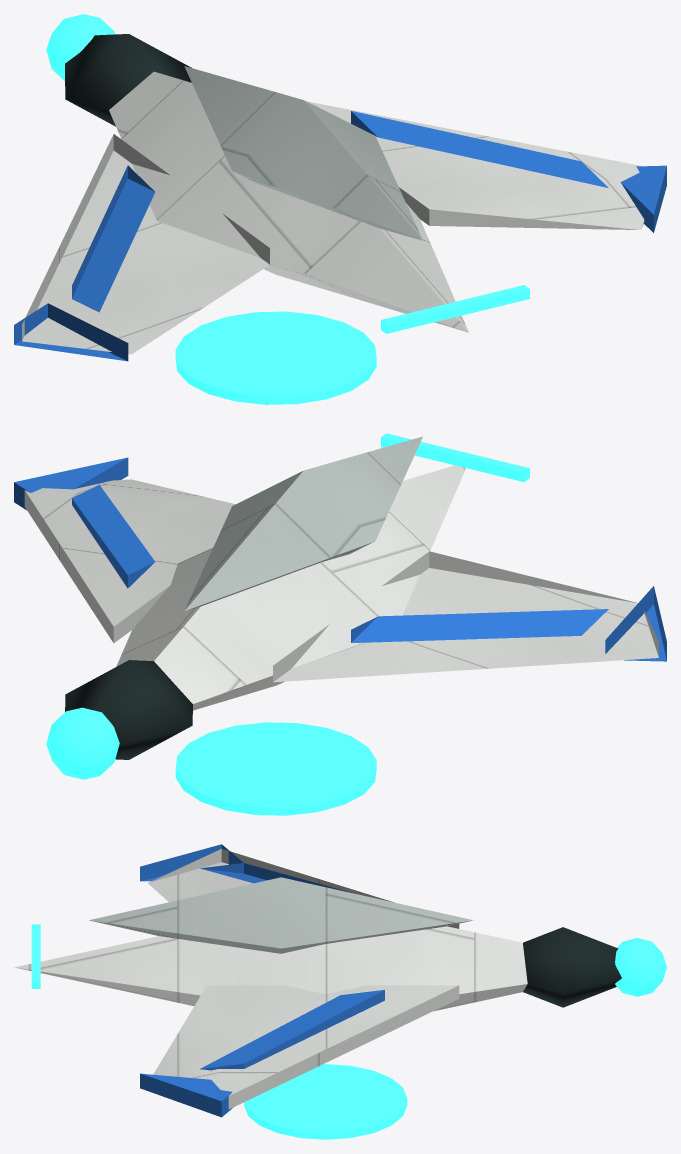
Rendered from energia_sentinela.glb.
The picture shows the model from 3 angles, top to bottom: view 1: azimuth 30°, elevation 25°; view 2: azimuth 150°, elevation 25°; view 3: azimuth 270°, elevation 25°; orthographic projection. The views are drawn at different scales.
Visible parts, largest first — view 1: Body_Shell, Body_Glow, Body_ShellAlt, Body_TeamColor, Body_Core; view 2: Body_Shell, Body_Glow, Body_ShellAlt, Body_TeamColor, Body_Core; view 3: Body_Shell, Body_ShellAlt, Body_Glow, Body_TeamColor, Body_Core.
Part boxes in pixels (box(x1,y1,x2,y2)): Body_Shell: box(22, 71, 644, 354); Body_Glow: box(46, 14, 529, 404); Body_ShellAlt: box(184, 66, 422, 240); Body_TeamColor: box(14, 111, 666, 361); Body_Core: box(65, 34, 191, 126); Body_Shell: box(24, 465, 658, 710); Body_Glow: box(46, 433, 529, 815); Body_ShellAlt: box(184, 436, 422, 610); Body_TeamColor: box(14, 457, 666, 661); Body_Core: box(65, 660, 192, 759); Body_Shell: box(14, 848, 527, 1109); Body_ShellAlt: box(89, 877, 473, 953); Body_Glow: box(31, 924, 666, 1139); Body_TeamColor: box(140, 844, 384, 1117); Body_Core: box(523, 927, 621, 1007).
Bounding box in the file's own units: 4.1 × 1.7 × 4.4.
5 materials, 2 textured.
